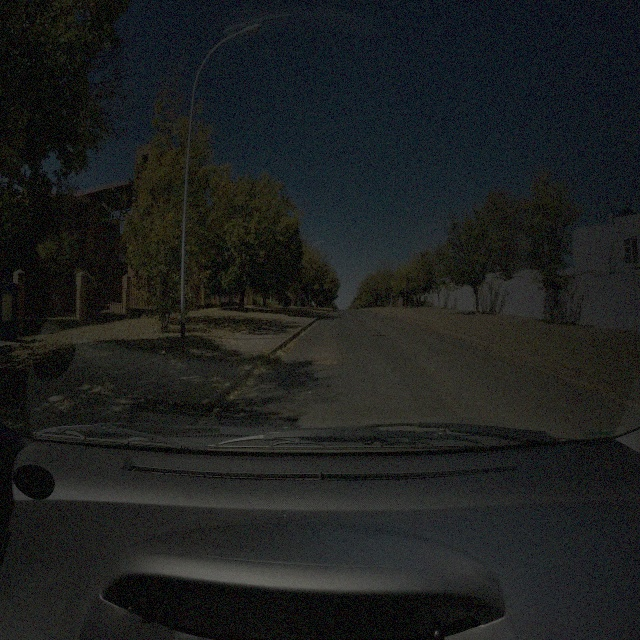pothole: (309, 359, 340, 368), (364, 317, 378, 324)
